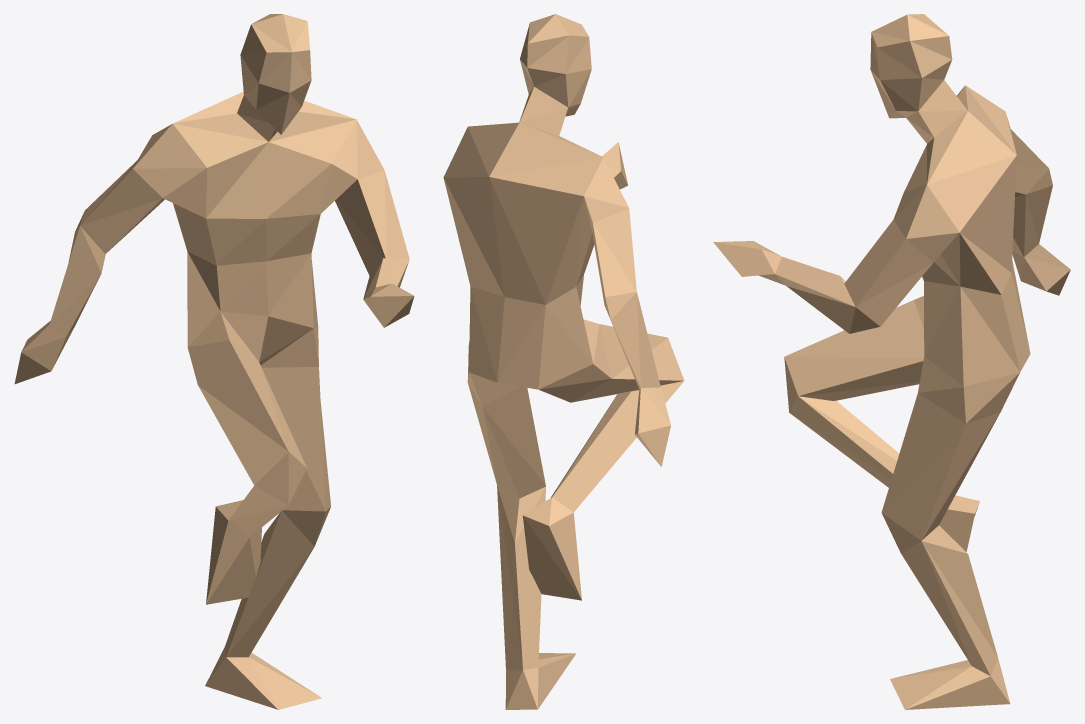
The picture shows the model from 3 angles, left to right: view 1: azimuth 30°, elevation 25°; view 2: azimuth 150°, elevation 25°; view 3: azimuth 270°, elevation 25°; orthographic projection. The views are drawn at different scales.
Bounding box in the file's own units: 0.9172 × 2.1 × 0.9901.
Materials: 1 (1 with a texture image).
